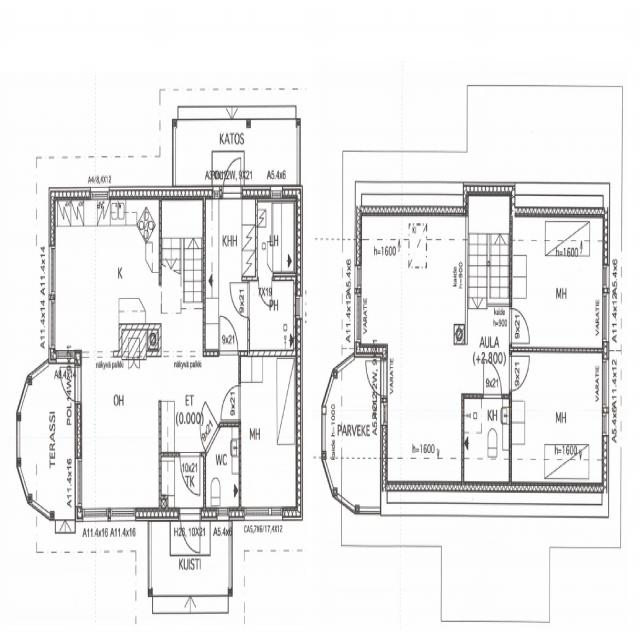door: (193, 402, 220, 453), (180, 509, 200, 559), (56, 366, 82, 404), (363, 362, 388, 396), (224, 153, 242, 200), (180, 452, 200, 494), (220, 316, 238, 357), (229, 283, 250, 318), (511, 308, 531, 344), (484, 360, 502, 399), (510, 357, 530, 391), (222, 386, 241, 418), (259, 277, 272, 308)
